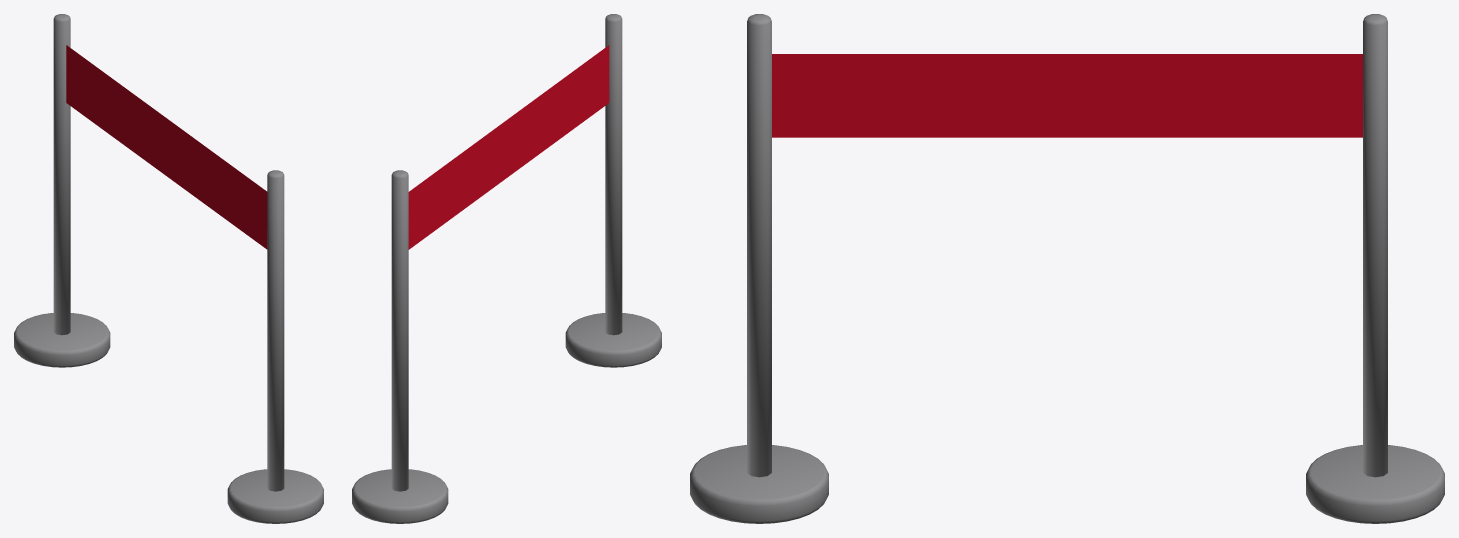
File: pinch-barrier.gltf
3 renders of one model, left to right at view 1: azimuth 30°, elevation 25°; view 2: azimuth 150°, elevation 25°; view 3: azimuth 270°, elevation 25°, orthographic. The views are drawn at different scales.
Parts seen in each view (by area): view 1: Box2, pipe003 (×2), bottom004 (×2); view 2: Box2, pipe003 (×2), bottom004 (×2); view 3: Box2, pipe003 (×2), bottom004 (×2).
Boxes of the visible parts, x1=… form: Box2: x1=66, y1=45, x2=267, y2=249; pipe003 (×2): x1=53, y1=14, x2=284, y2=491; bottom004 (×2): x1=14, y1=313, x2=323, y2=523; Box2: x1=408, y1=45, x2=609, y2=249; pipe003 (×2): x1=391, y1=14, x2=622, y2=491; bottom004 (×2): x1=352, y1=313, x2=661, y2=523; Box2: x1=772, y1=54, x2=1362, y2=137; pipe003 (×2): x1=747, y1=14, x2=1387, y2=477; bottom004 (×2): x1=690, y1=445, x2=1444, y2=523.
Size of what is drawn, in the model's own units: 0.2267 by 0.8582 by 1.23.
